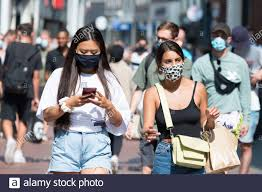with-mask: (151, 39, 190, 87), (69, 27, 105, 70), (208, 18, 232, 58), (153, 21, 179, 50)
